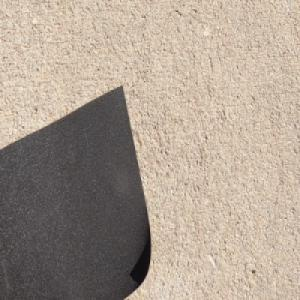PaintChip: (0, 77, 161, 300)
